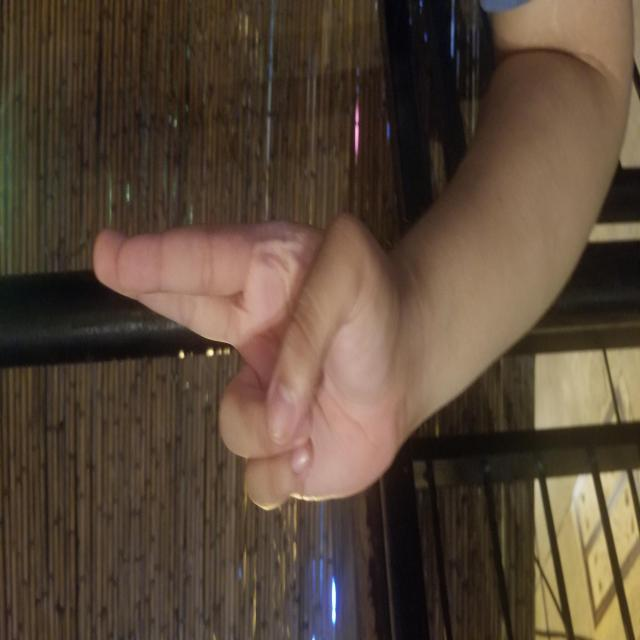R: (127, 92, 430, 396)
